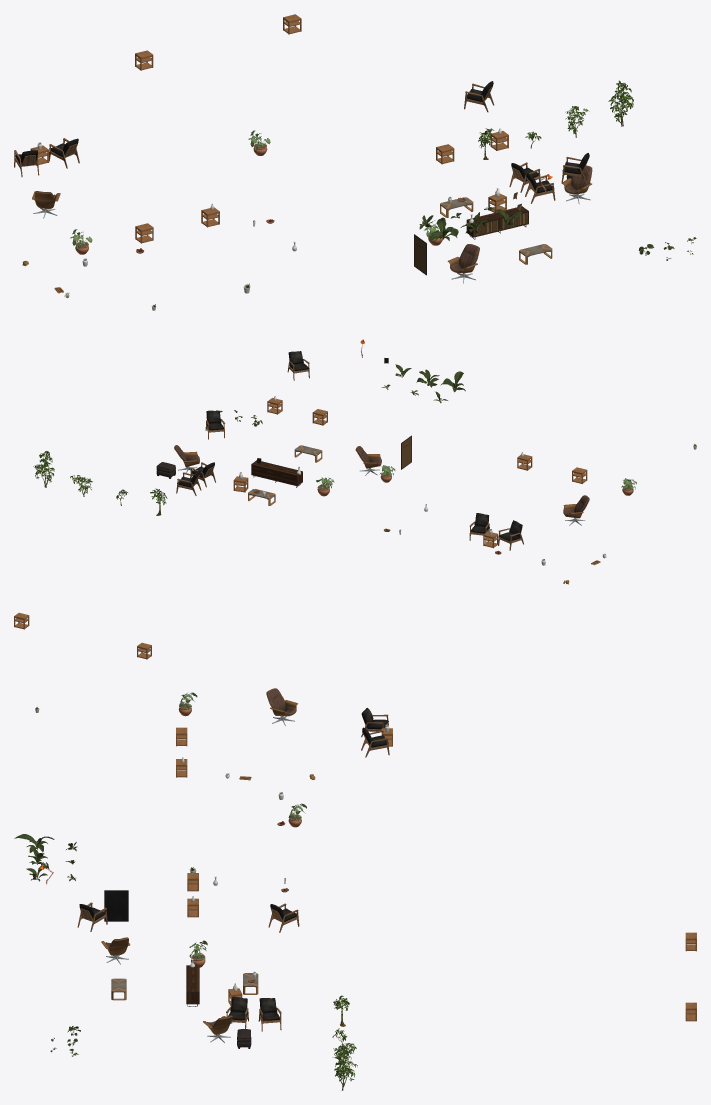
The model's file is props.glb.
3 views of the same model, one above another, from view 1: azimuth 30°, elevation 25°; view 2: azimuth 150°, elevation 25°; view 3: azimuth 270°, elevation 25° (orthographic). The views are drawn at different scales.
Visible parts, largest first — view 1: pachira_aquatica_01, modern_wooden_cabinet, anthurium_botany_01, mid_century_lounge_chair.001, mid_century_lounge_chair, modern_arm_chair_01.002, modern_arm_chair_01.005, modern_arm_chair_01.001, mid_century_lounge_chair.002, modern_arm_chair_01.003; view 2: pachira_aquatica_01, modern_wooden_cabinet, anthurium_botany_01; view 3: pachira_aquatica_01, hanging_picture_frame_01, anthurium_botany_01, mid_century_lounge_chair.002.
Boxes of the visible parts, x1,y1,x2,y2 form: pachira_aquatica_01: [478, 80, 633, 159]; modern_wooden_cabinet: [466, 206, 528, 239]; anthurium_botany_01: [419, 205, 521, 240]; mid_century_lounge_chair.001: [447, 244, 479, 283]; mid_century_lounge_chair: [561, 165, 592, 204]; modern_arm_chair_01.002: [464, 81, 494, 112]; modern_arm_chair_01.005: [49, 138, 79, 168]; modern_arm_chair_01.001: [525, 173, 555, 203]; mid_century_lounge_chair.002: [32, 191, 60, 218]; modern_arm_chair_01.003: [561, 153, 589, 184]; pachira_aquatica_01: [33, 451, 167, 515]; modern_wooden_cabinet: [251, 460, 302, 487]; anthurium_botany_01: [381, 364, 465, 403]; pachira_aquatica_01: [332, 995, 357, 1090]; hanging_picture_frame_01: [104, 890, 128, 921]; anthurium_botany_01: [14, 834, 77, 881]; mid_century_lounge_chair.002: [266, 688, 297, 725].
Size of the model in its own units: 28.25 by 5.08 by 26.74.
33 materials, 33 textured.
